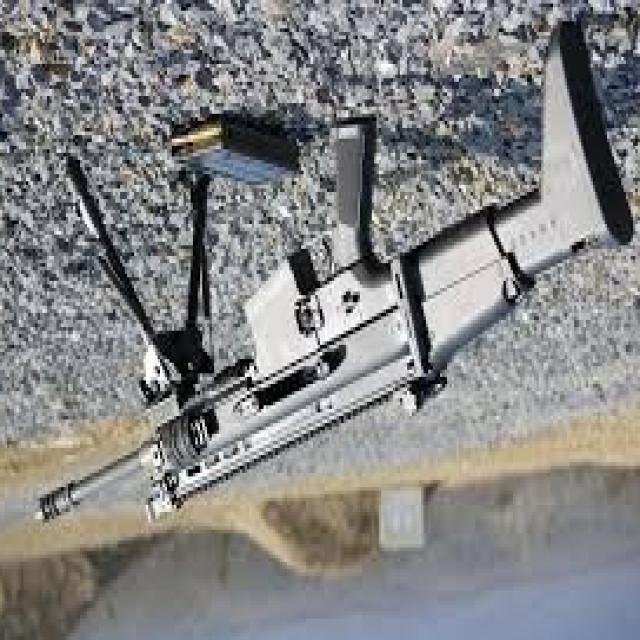Gun: (19, 43, 640, 537)
